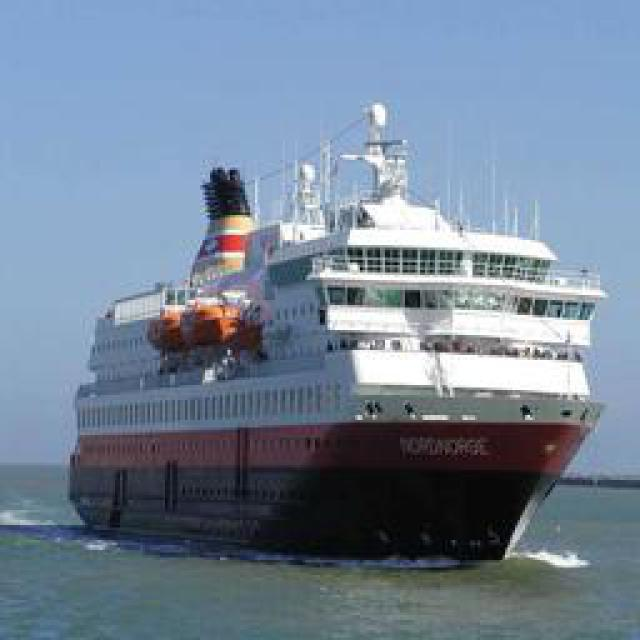Ship: (69, 82, 602, 565)
